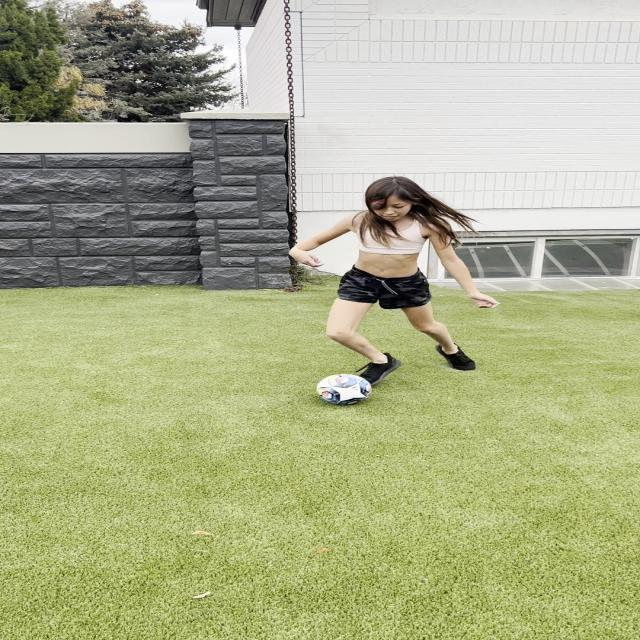Soccer Ball: (317, 373, 372, 405)
